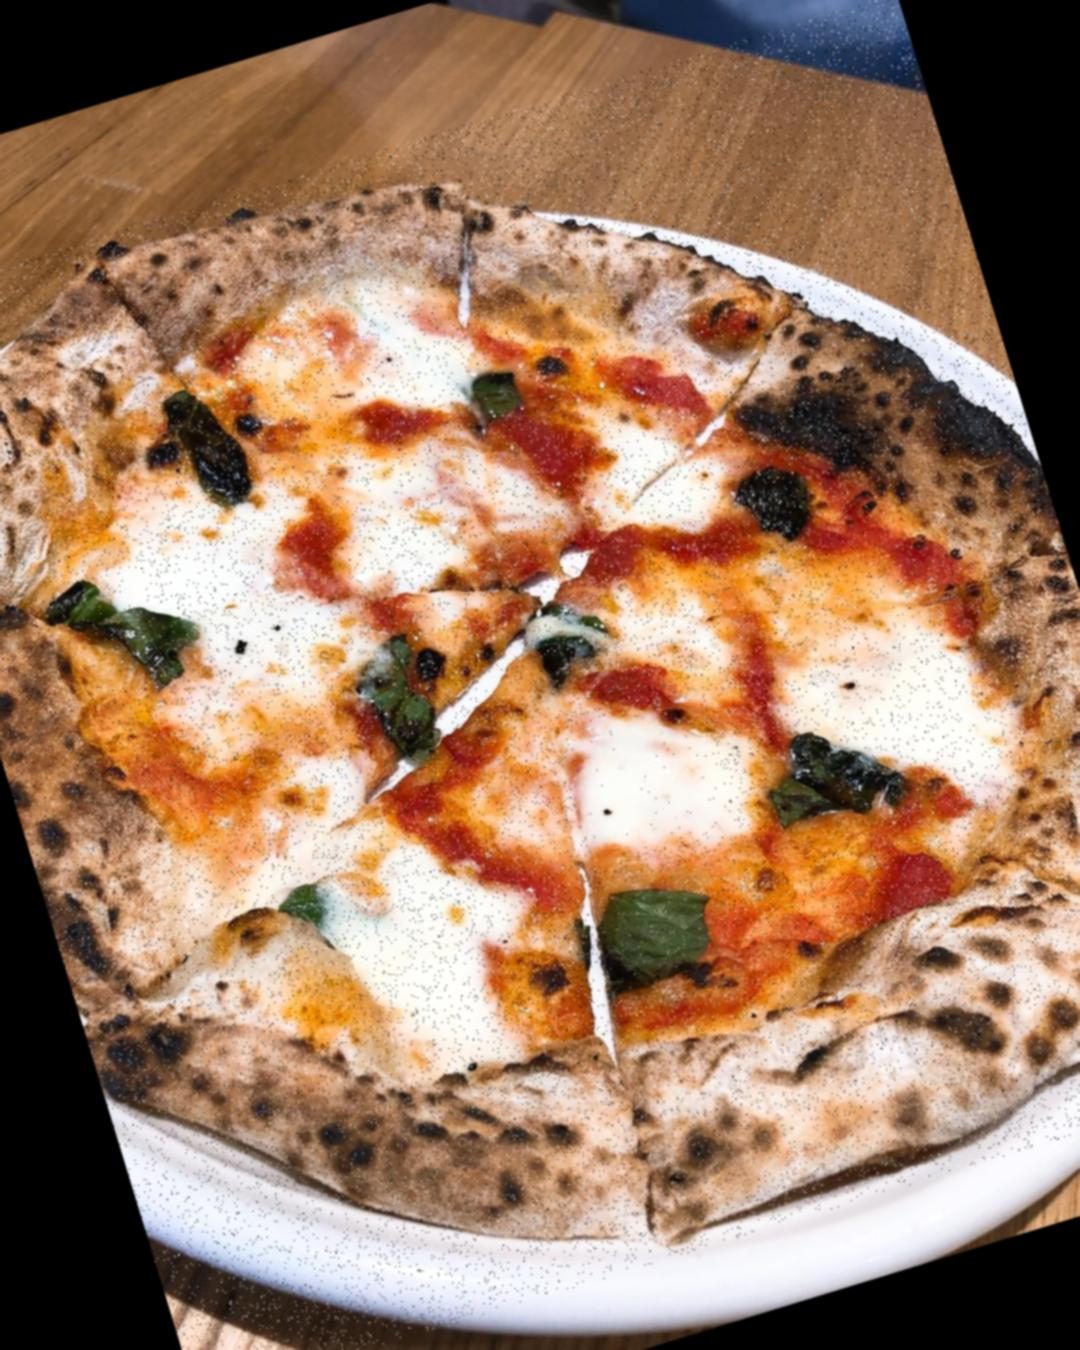Basil: (755, 708, 918, 845), (45, 554, 198, 693), (586, 861, 736, 1001), (346, 631, 464, 771), (159, 377, 270, 525), (515, 587, 618, 682), (460, 356, 536, 426)
Cheese: (262, 797, 518, 1062), (778, 568, 995, 793), (133, 472, 330, 680), (554, 690, 736, 870), (334, 421, 532, 585), (285, 281, 456, 438)
Pizza: (0, 0, 1080, 1350)
